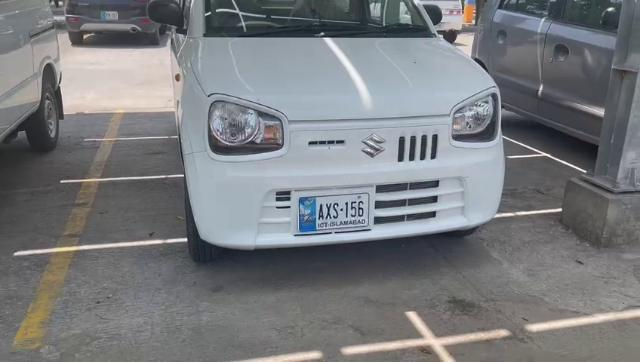plate: (296, 190, 372, 233)
